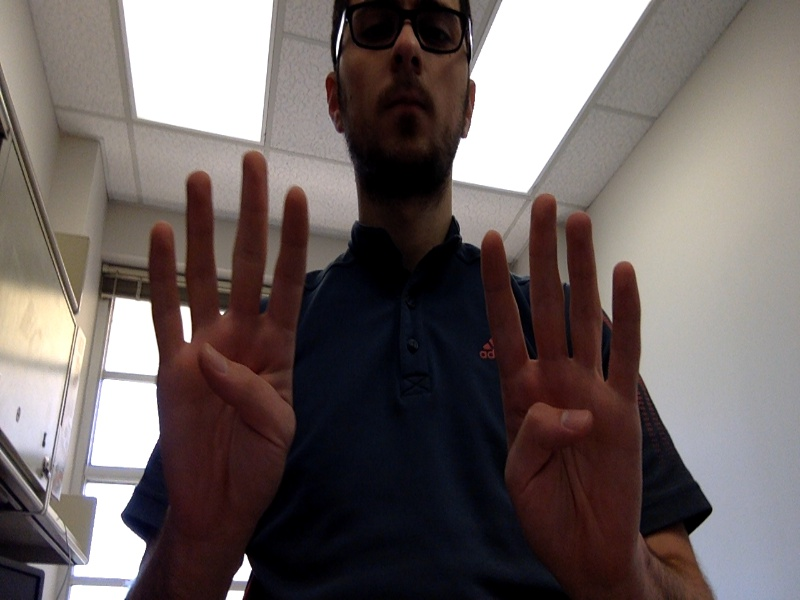4-hand: (479, 193, 644, 577), (148, 151, 310, 537)
